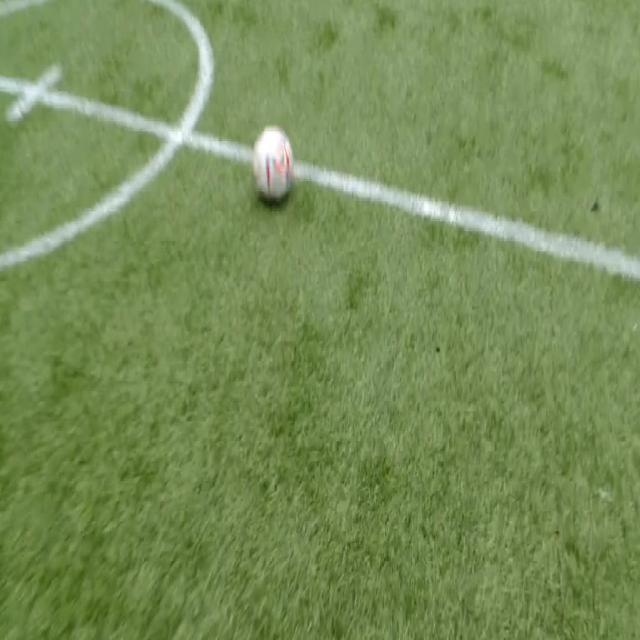ball: (254, 126, 292, 200)
